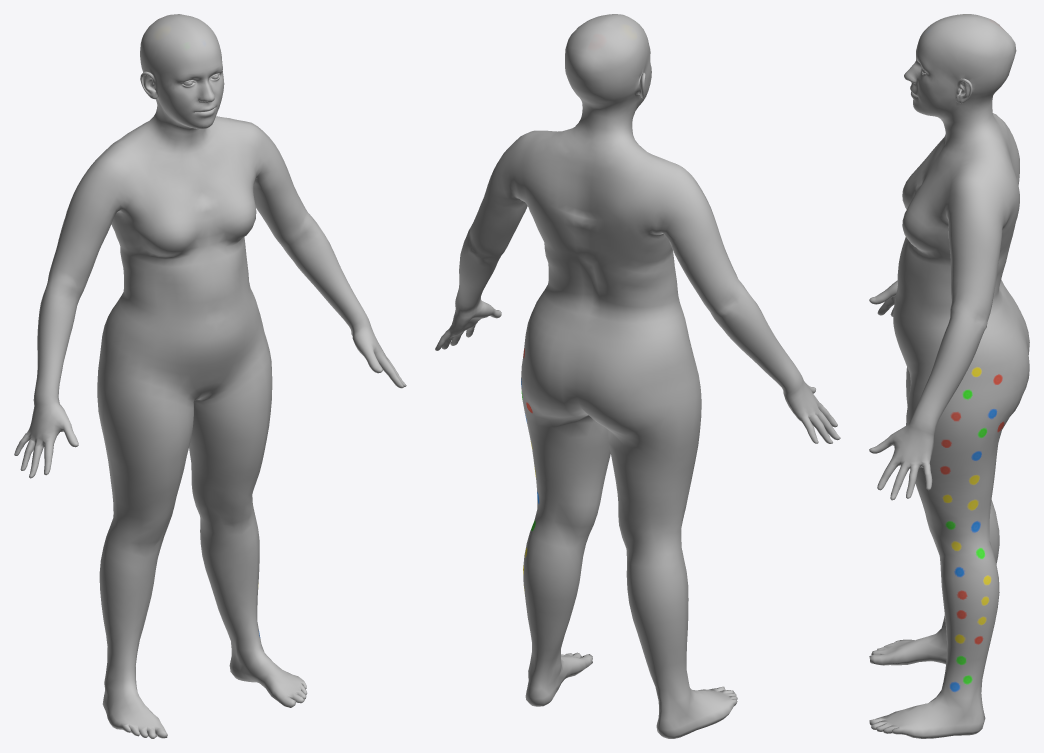
File: 1135039-crossleg-all.gltf
The picture shows the model from 3 angles, left to right: view 1: azimuth 30°, elevation 25°; view 2: azimuth 150°, elevation 25°; view 3: azimuth 270°, elevation 25°; orthographic projection. The views are drawn at different scales.
Visible parts, largest first — view 1: Female 60in 130lbs; view 2: Female 60in 130lbs; view 3: Female 60in 130lbs.
Boxes of the visible parts, x1,y1,x2,y2 form: Female 60in 130lbs: (14,14,406,738); Female 60in 130lbs: (435,14,840,738); Female 60in 130lbs: (869,14,1029,738).
Bounding box in the file's own units: 2.68 × 4.58 × 0.9768.
Materials: 1 (1 with a texture image).
